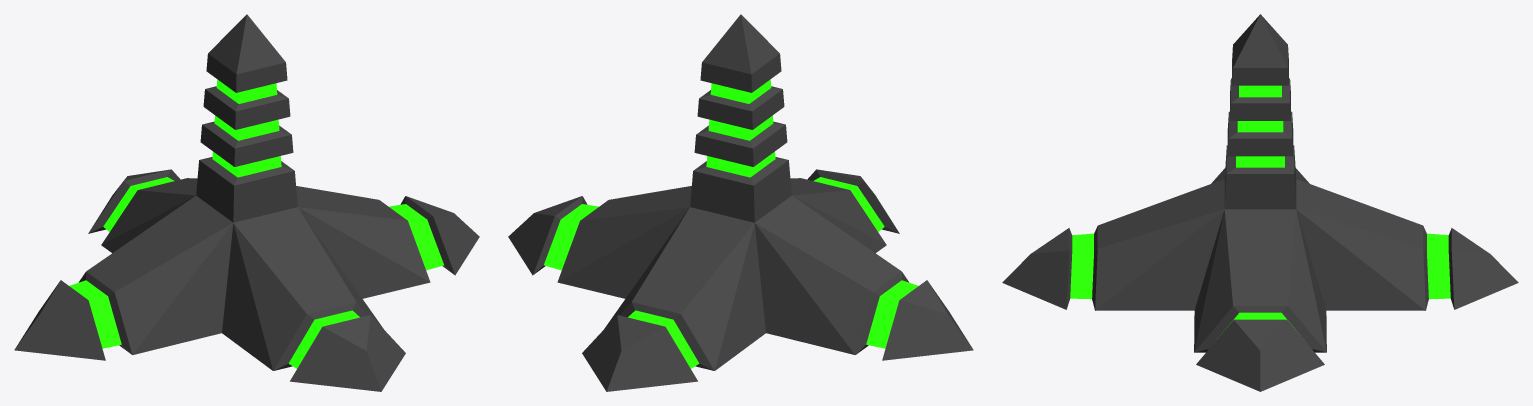
File: EdgeFirewallMine.fbx
3 views of the same model, side by side, from view 1: azimuth 30°, elevation 25°; view 2: azimuth 150°, elevation 25°; view 3: azimuth 270°, elevation 25° (orthographic). The views are drawn at different scales.
Parts seen in each view (by area): view 1: EdgeFirewallMine; view 2: EdgeFirewallMine; view 3: EdgeFirewallMine.
Boxes of the visible parts, left/top/right/bottom form: EdgeFirewallMine: left=14, top=14, right=479, bottom=391; EdgeFirewallMine: left=508, top=14, right=973, bottom=391; EdgeFirewallMine: left=1002, top=14, right=1518, bottom=391.
Bounding box in the file's own units: 487 × 279 × 487.
